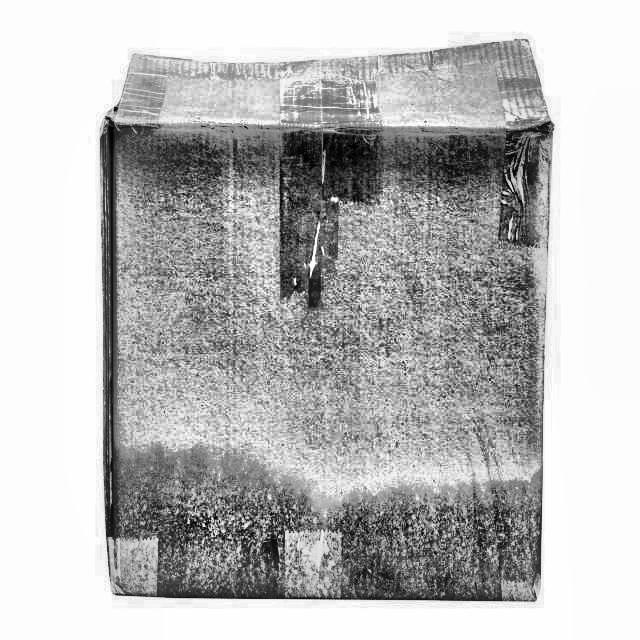box: (94, 29, 565, 609)
wet: (107, 416, 537, 608)
